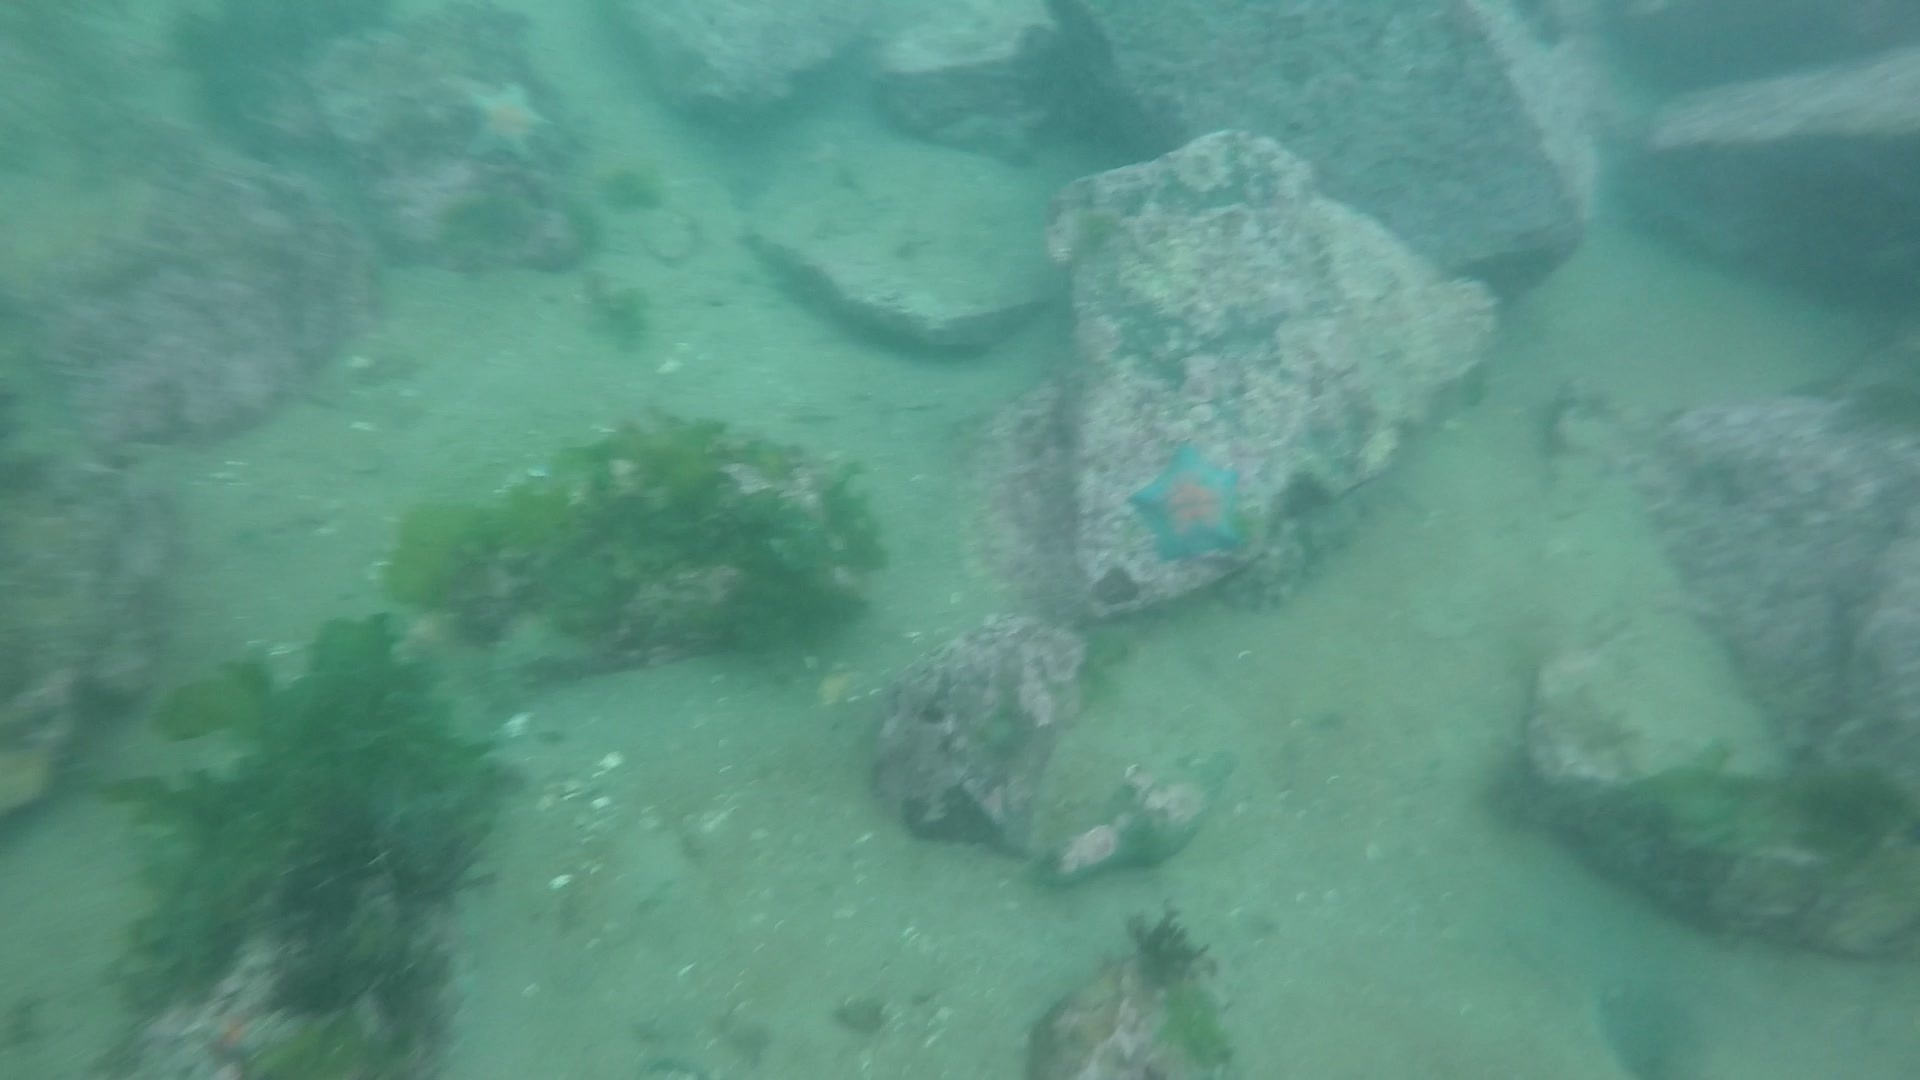starfish: (1124, 439, 1253, 568), (448, 73, 558, 170)
